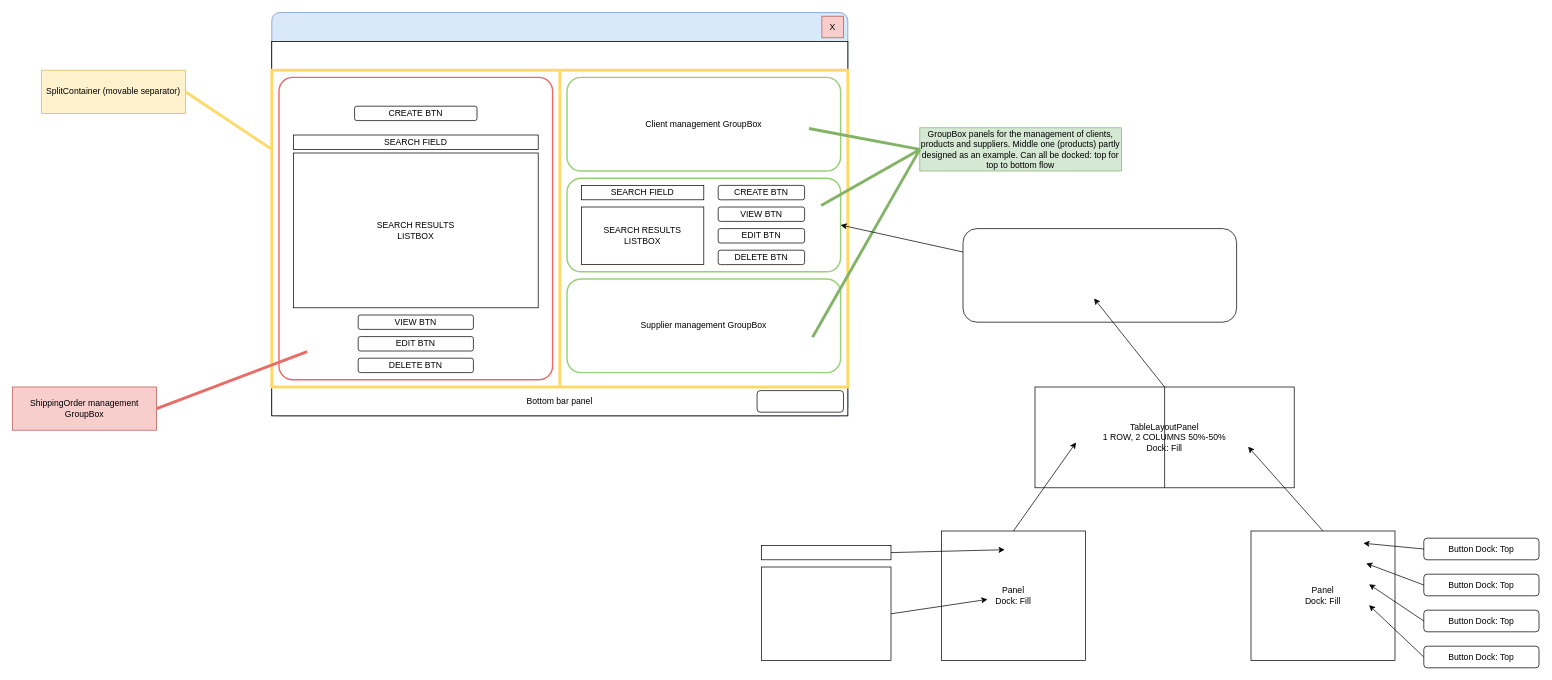
Image size: 1552x680. Some labels were removed from this diagram. The shapes that lost their labels are listed below. From the top down, each one's centre as x and y in pixels, then its label:
At point (559, 55): "Top bar panel".
At point (1099, 275): "GroupBox Dock: Top".
At point (799, 401): "BTN LOGOUT".
At point (826, 552): "TextBox Dock: Top".
At point (826, 613): "ListBox Dock: Fill".
